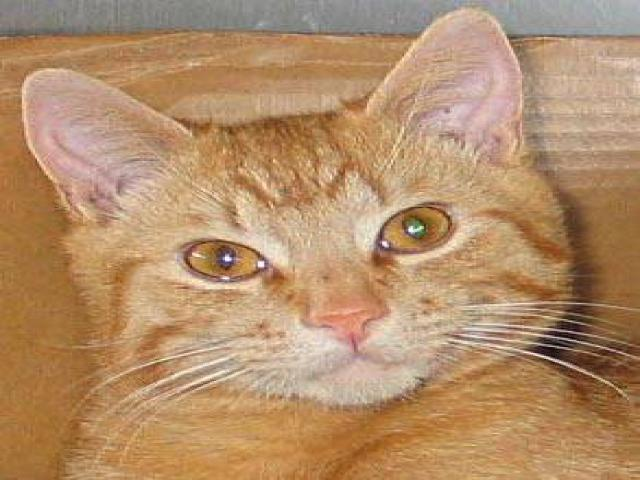cat: (11, 5, 627, 477)
